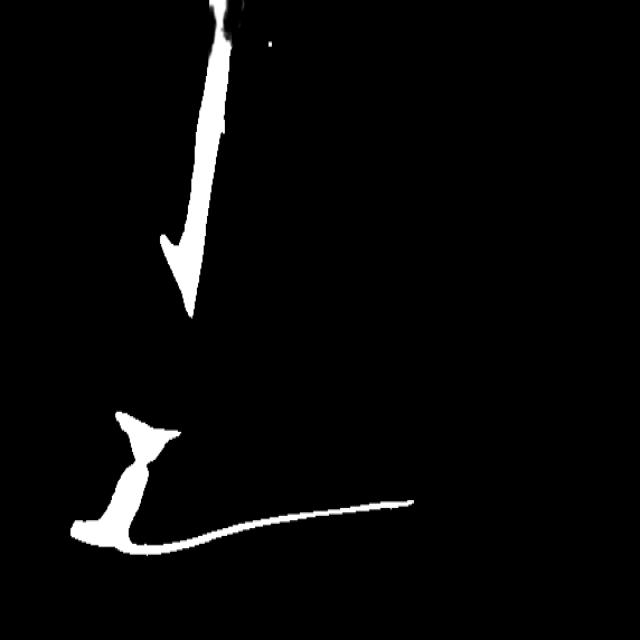sl: (208, 0, 236, 59)
